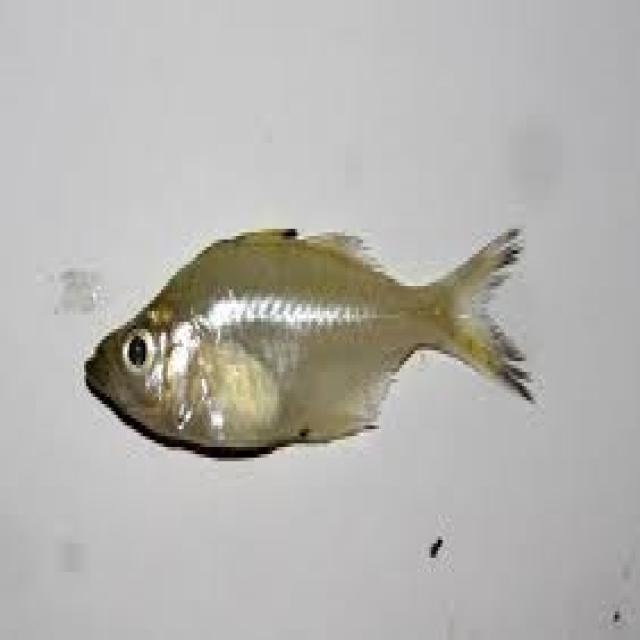Glass-Perchlet: (54, 153, 540, 511)
